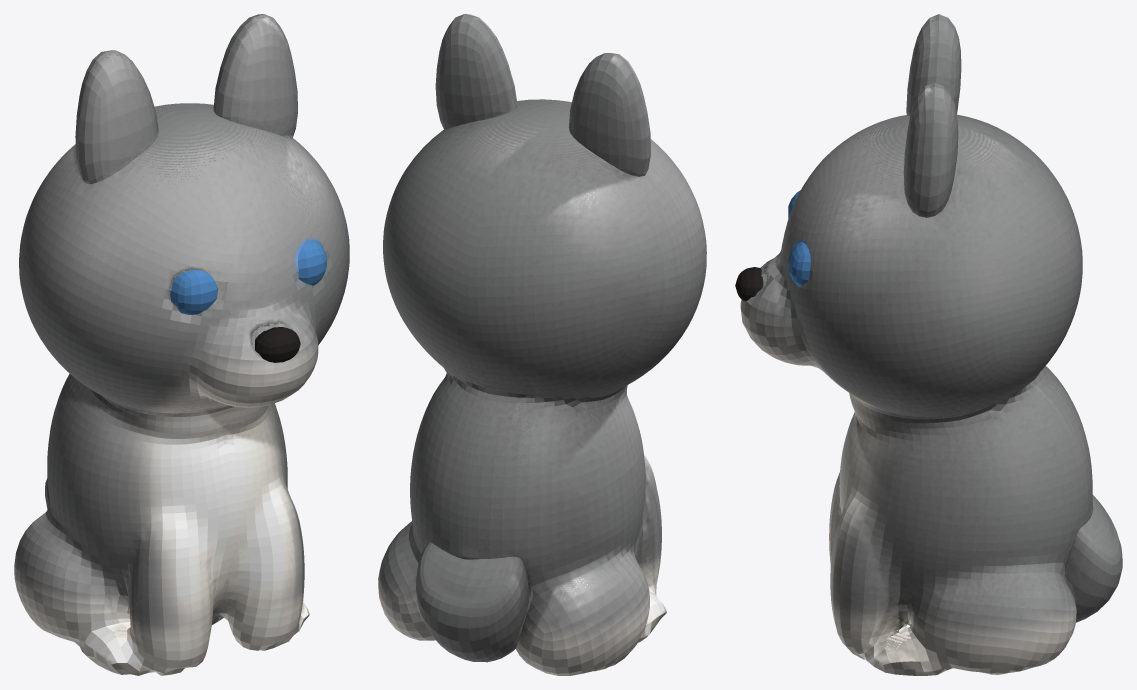
File: figure.glb
3 renders of one model, left to right at view 1: azimuth 30°, elevation 25°; view 2: azimuth 150°, elevation 25°; view 3: azimuth 270°, elevation 25°, orthographic. The views are drawn at different scales.
Visible parts, largest first — view 1: petpop_base_dog; view 2: petpop_base_dog; view 3: petpop_base_dog.
Boxes of the visible parts, x1=… form: petpop_base_dog: x1=14, y1=14, x2=349, y2=675; petpop_base_dog: x1=378, y1=14, x2=706, y2=675; petpop_base_dog: x1=735, y1=14, x2=1122, y2=675.
Bounding box in the file's own units: 47.33 × 93.27 × 56.1.
1 material, 1 textured.
